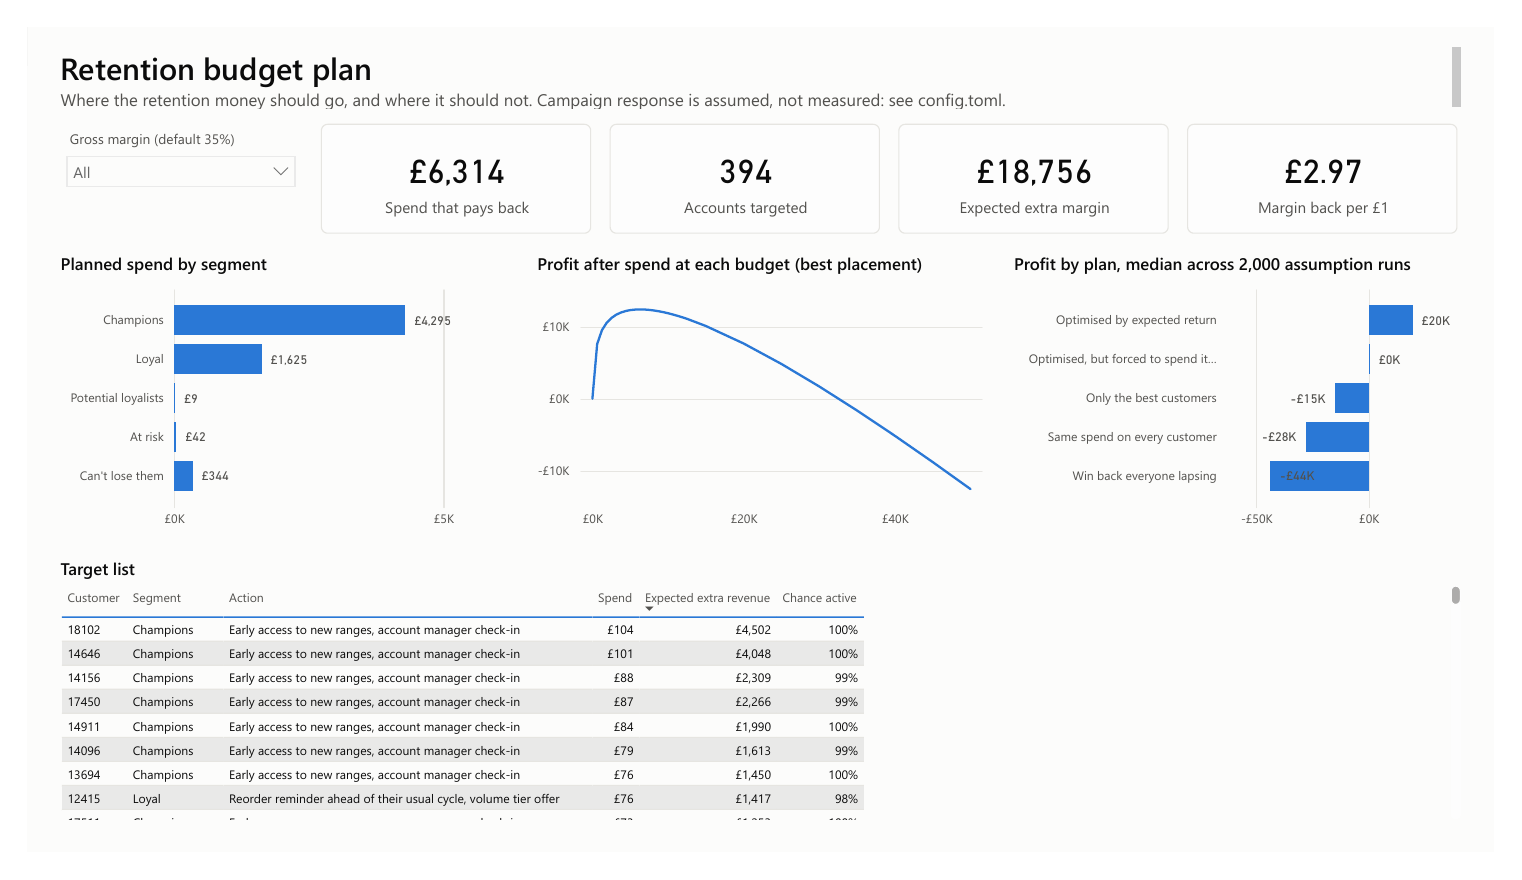

Layout of this report page (visuals, bound fields, positions):
{"tool":"powerbi","page":{"name":"Budget plan","canvas":[1280,720],"ordinal":3},"visuals":[{"type":"textbox","box":[24,12,1232,64],"z":0},{"type":"slicer","title":"Gross margin (default 35%)","fields":{"Values":["Margin.Margin"]},"box":[24,84,220,56],"z":1000},{"type":"card","title":"Spend that pays back","fields":{"Values":["_Measures.Planned Spend"]},"box":[256,84,236,96],"z":2000},{"type":"card","title":"Accounts targeted","fields":{"Values":["_Measures.Accounts Targeted"]},"box":[508,84,236,96],"z":3000},{"type":"card","title":"Expected extra margin","fields":{"Values":["_Measures.Expected Extra Margin"]},"box":[760,84,236,96],"z":4000},{"type":"card","title":"Margin back per £1","fields":{"Values":["_Measures.Margin Back per Pound"]},"box":[1012,84,236,96],"z":5000},{"type":"clusteredBarChart","title":"Planned spend by segment","fields":{"Category":["dim_segment.Segment"],"Y":["_Measures.Target Spend"]},"box":[24,196,400,250],"z":6000},{"type":"lineChart","title":"Profit after spend at each budget (best placement)","fields":{"Category":["plan_budget_curve.Budget"],"Y":["_Measures.Budget Profit"]},"box":[440,196,400,250],"z":7000},{"type":"clusteredBarChart","title":"Profit by plan, median across 2,000 assumption runs","fields":{"Category":["plan_strategies.Strategy"],"Y":["_Measures.Strategy Median Profit"]},"box":[856,196,400,250],"z":8000},{"type":"tableEx","title":"Target list","fields":{"Values":["dim_customer.Customer ID","dim_customer.Segment","dim_customer.Recommended Action","_Measures.Target Spend","_Measures.Target Extra Revenue","dim_customer.P Alive"]},"box":[24,462,1232,234],"z":9000}]}

Visuals, with their boxes in screenshot pixels (x1, y1, x2, y2), scaled from the page's 1280x720 canvas onto the 1522x880 screenshot:
textbox: box=[29, 15, 1493, 93]
"Gross margin (default 35%)" slicer: box=[29, 103, 290, 171]
"Spend that pays back" card: box=[304, 103, 585, 220]
"Accounts targeted" card: box=[604, 103, 885, 220]
"Expected extra margin" card: box=[904, 103, 1184, 220]
"Margin back per £1" card: box=[1203, 103, 1484, 220]
"Planned spend by segment" clusteredBarChart: box=[29, 240, 504, 545]
"Profit after spend at each budget (best placement)" lineChart: box=[523, 240, 999, 545]
"Profit by plan, median across 2,000 assumption runs" clusteredBarChart: box=[1018, 240, 1493, 545]
"Target list" tableEx: box=[29, 565, 1493, 851]
